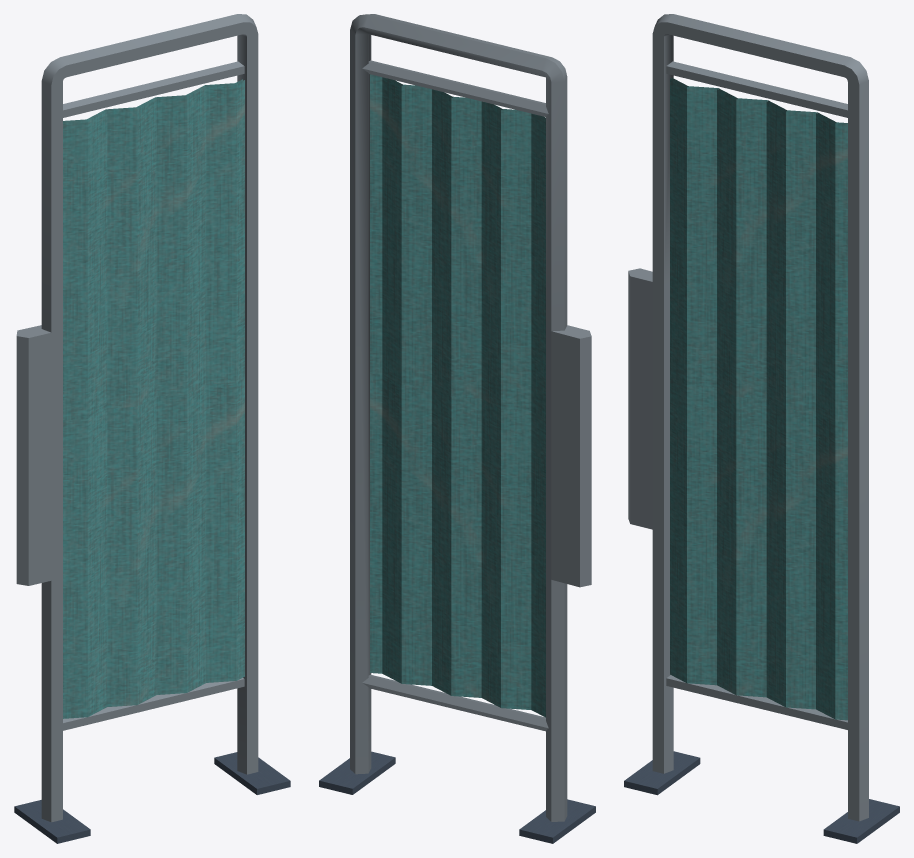
Rendered from Curtain.fbx.
The picture shows the model from 3 angles, left to right: view 1: azimuth 30°, elevation 25°; view 2: azimuth 150°, elevation 25°; view 3: azimuth 330°, elevation 25°; orthographic projection.
Visible parts, largest first — view 1: Curtain; view 2: Curtain; view 3: Curtain.
Boxes of the visible parts, bbox=[...] form: Curtain: bbox=[14, 14, 290, 843]; Curtain: bbox=[319, 14, 595, 843]; Curtain: bbox=[624, 14, 899, 843].
Size of the model in its own units: 101 by 294 by 29.89.
